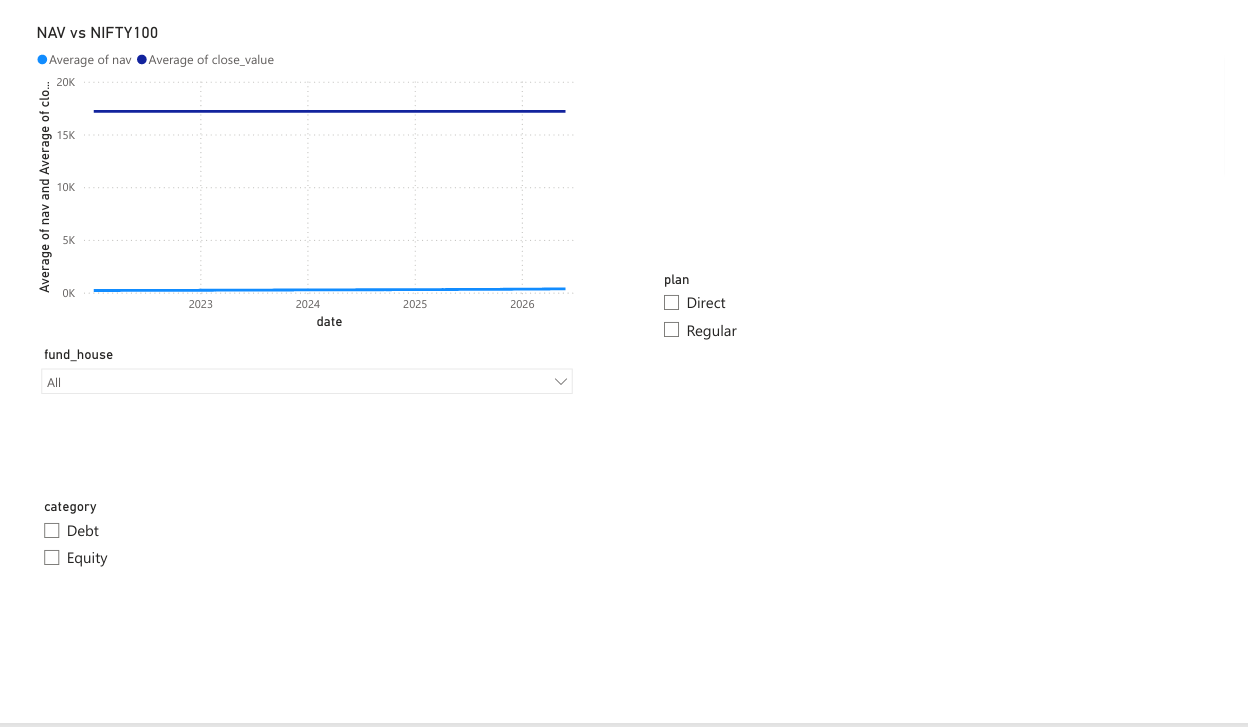

The dashboard page shown, as its layout file describes it:
{"tool":"powerbi","page":{"name":"Fund Performance 2","canvas":[1280,720],"ordinal":2},"visuals":[{"type":"lineChart","title":"NAV vs NIFTY100","fields":{"Category":["02_nav_history.date"],"Y":["Avg(02_nav_history.nav)","Avg(10_benchmark_indices.close_value)"]},"box":[10,0,586,330],"z":0},{"type":"slicer","fields":{"Values":["01_fund_master.fund_house"]},"box":[10,340,586,108],"z":1000},{"type":"slicer","fields":{"Values":["01_fund_master.category"]},"box":[10,502,586,150],"z":2000},{"type":"slicer","fields":{"Values":["01_fund_master.plan"]},"box":[670,260,586,160],"z":3000}]}

Visuals, with their boxes on the page's 1280x720 design canvas (x1, y1, x2, y2). These are canvas units, not pixel positions in the 1248x727 screenshot, which may show the page scaled, cropped or inside an application window:
"NAV vs NIFTY100" lineChart: 10, 0, 596, 330
slicer - 01_fund_master.fund_house: 10, 340, 596, 448
slicer - 01_fund_master.category: 10, 502, 596, 652
slicer - 01_fund_master.plan: 670, 260, 1256, 420
